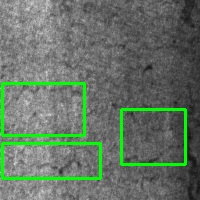crazing: (2, 83, 84, 135), (121, 109, 185, 164), (2, 143, 100, 178)
